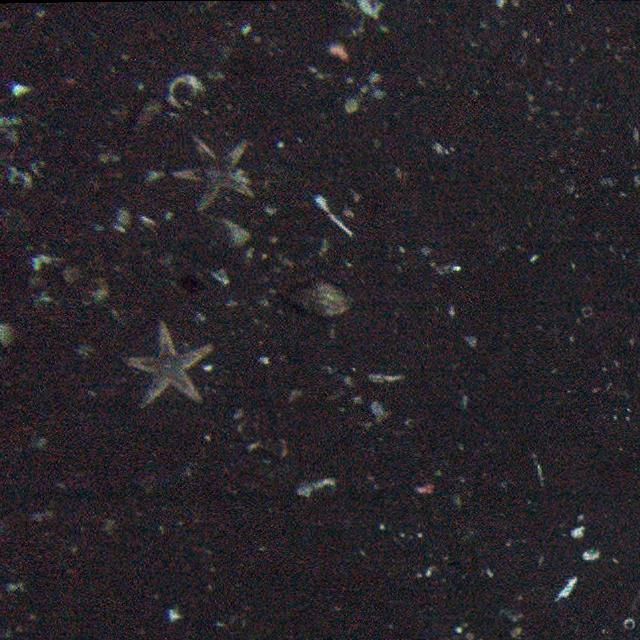whelk: (268, 274, 358, 321)
